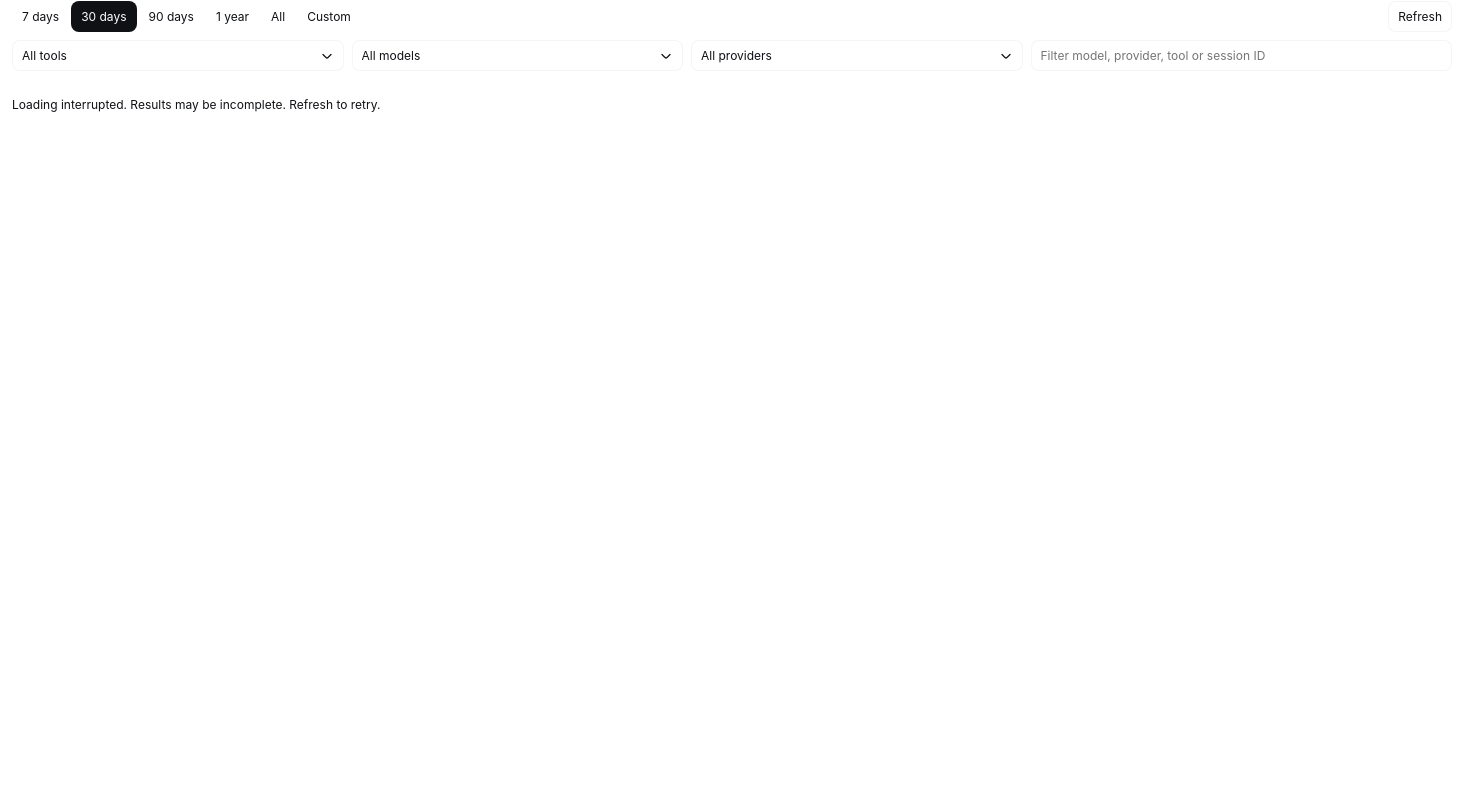
cancels on unmount and provides retry after a request failure
This screenshot has width=1464, height=810.
Check: the message "Loading interrupted. Results may be incomplete. Refresh to retry." is shown, box [12,97,380,112]
Click the button "Refresh" at (1420, 16), box [1388,0,1452,32]
(page scrolled)
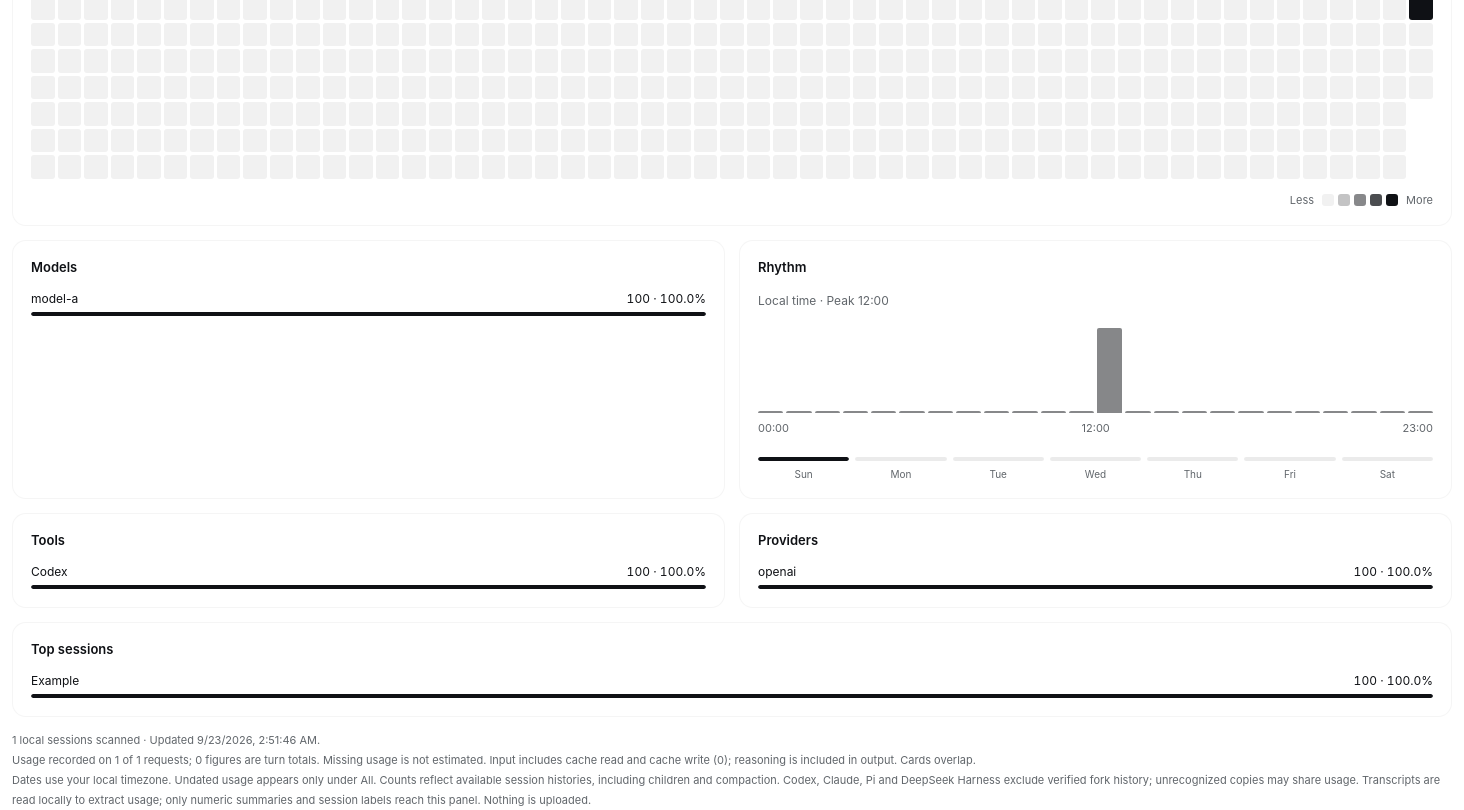
Check: the text "local sessions scanned" is shown, box [16,733,197,747]
